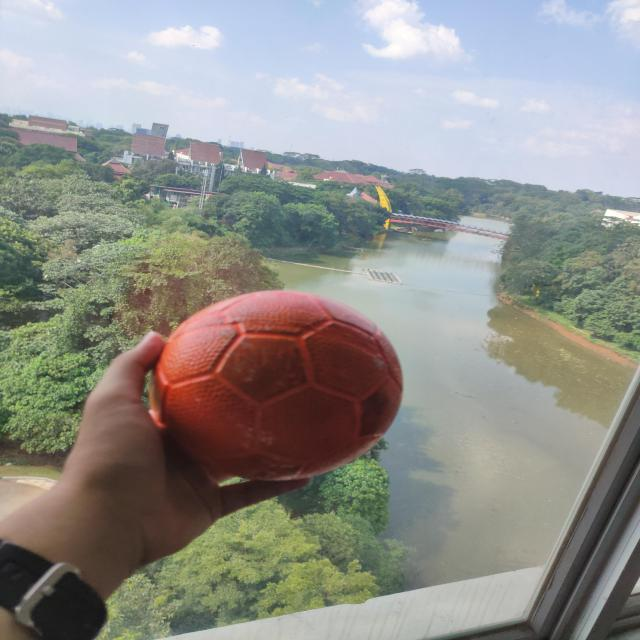bola: (145, 280, 413, 487)
